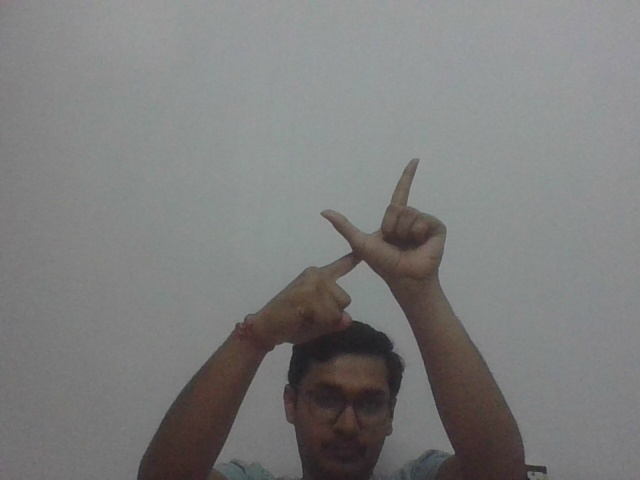Y: (315, 152, 438, 331)
